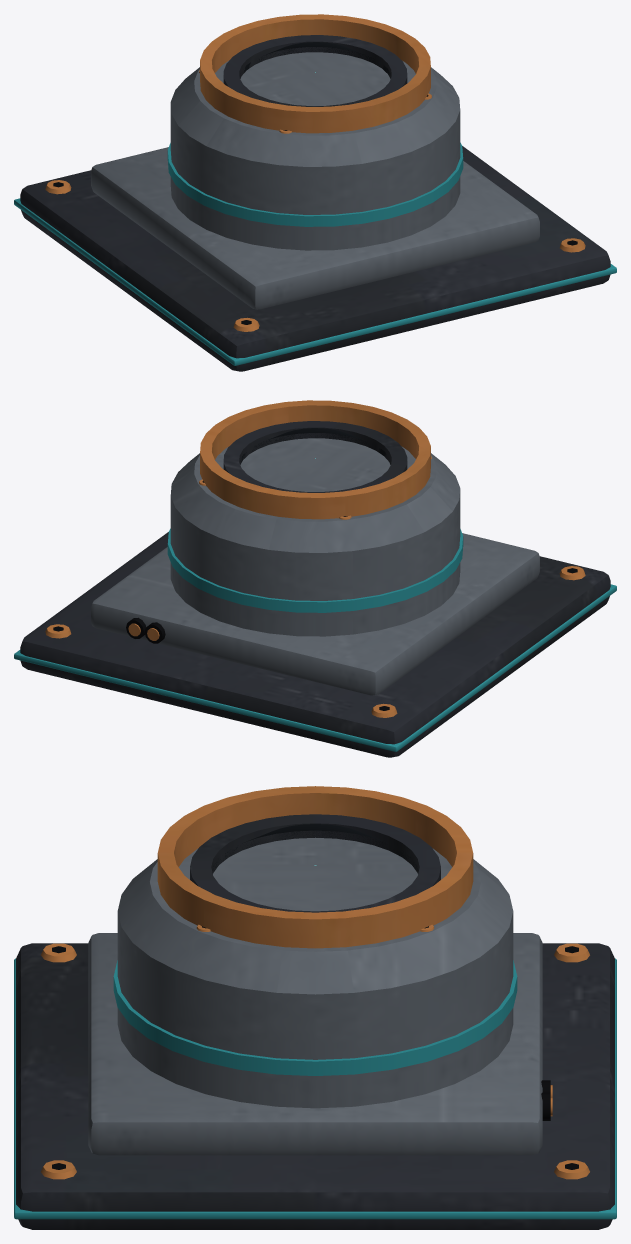
The model's file is sensor_2.glb.
The picture shows the model from 3 angles, top to bottom: view 1: azimuth 30°, elevation 25°; view 2: azimuth 150°, elevation 25°; view 3: azimuth 270°, elevation 25°; orthographic projection. The views are drawn at different scales.
Visible parts, largest first — view 1: Body; view 2: Body; view 3: Body.
Boxes of the visible parts, x1,y1,x2,y2 form: Body: [14, 14, 616, 371]; Body: [14, 400, 616, 757]; Body: [14, 786, 616, 1229].
Bounding box in the file's own units: 0.2256 × 0.11 × 0.2256.
7 materials, 3 textured.
